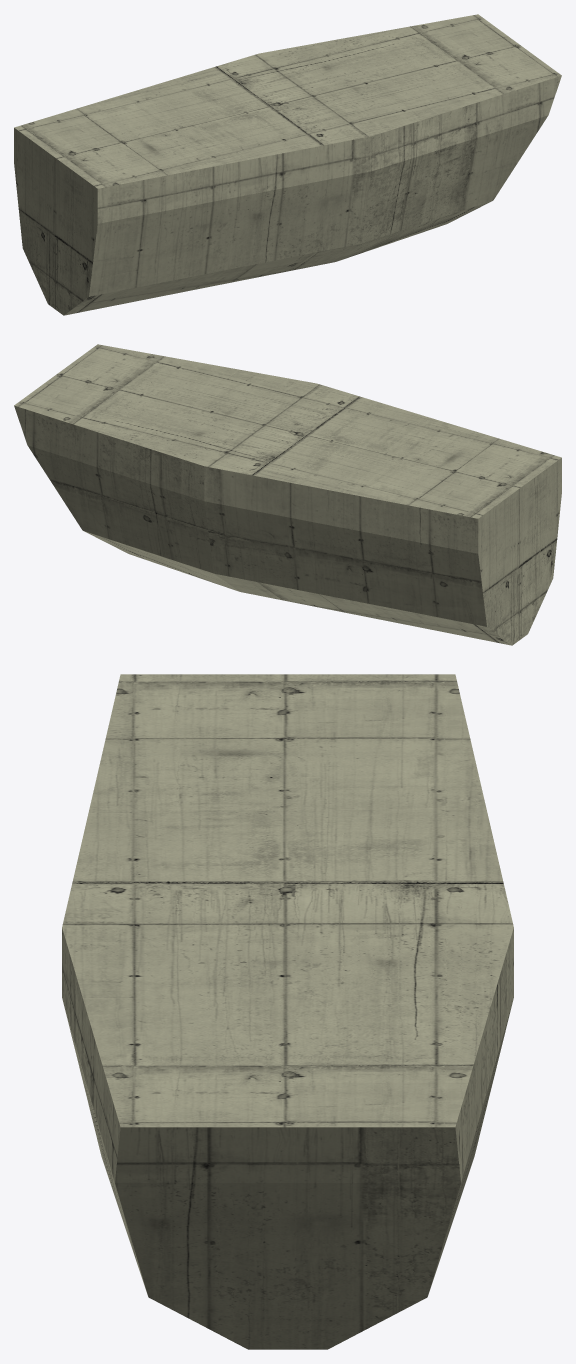
Rendered from SM_Republic_06_boat0.fbx.
3 views of the same model, one above another, from view 1: azimuth 30°, elevation 25°; view 2: azimuth 150°, elevation 25°; view 3: azimuth 270°, elevation 25° (orthographic). The views are drawn at different scales.
Parts seen in each view (by area): view 1: SM_Republic_06_boat0; view 2: SM_Republic_06_boat0; view 3: SM_Republic_06_boat0.
Part boxes in pixels (x1=…): SM_Republic_06_boat0: x1=14, y1=14, x2=561, y2=315; SM_Republic_06_boat0: x1=14, y1=344, x2=561, y2=645; SM_Republic_06_boat0: x1=62, y1=674, x2=513, y2=1349.
Bounding box in the file's own units: 1731 × 540 × 729.
